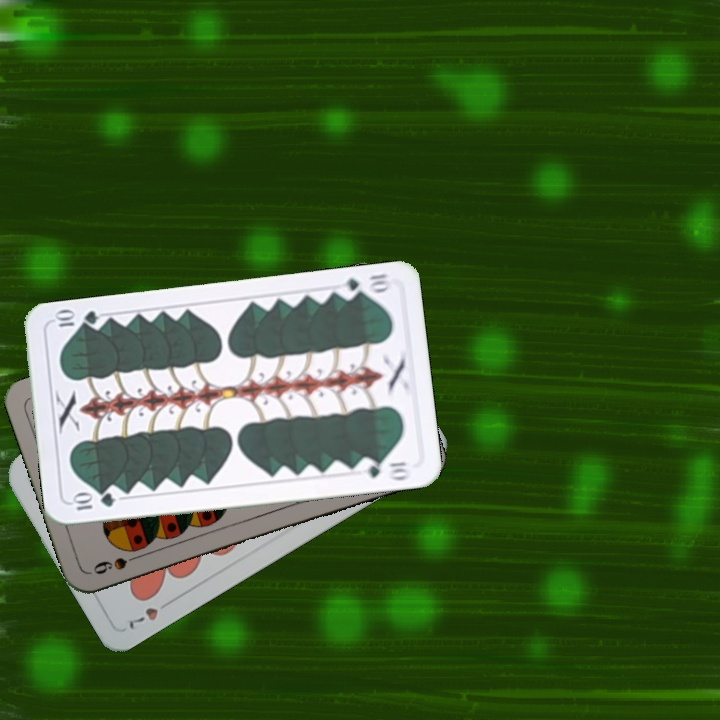G10: (334, 269, 394, 301), (69, 489, 117, 513)
H7: (124, 595, 175, 632)
S9: (89, 549, 146, 577)
